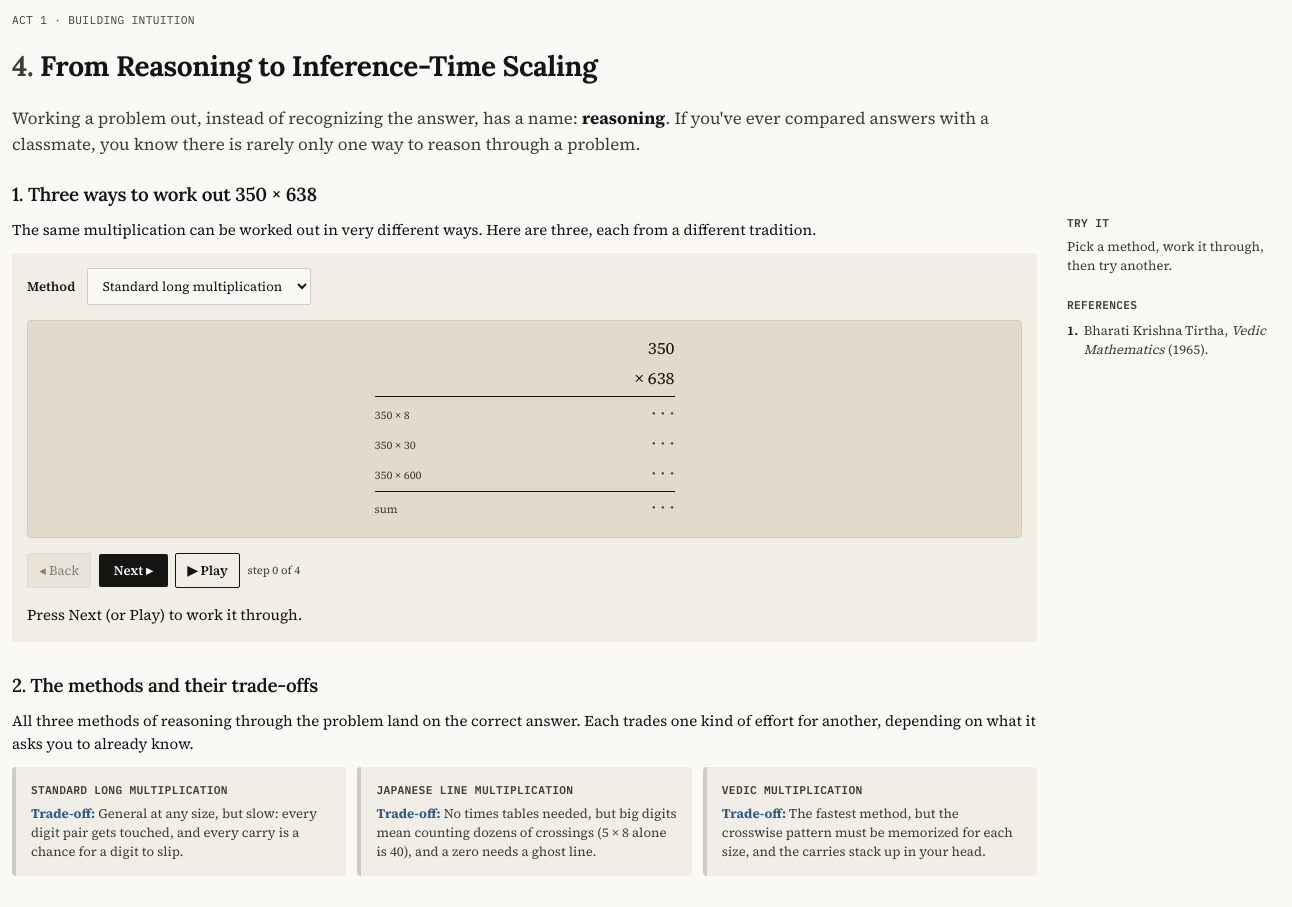
it: Page 4 animated Play (no reduced motion) › Play walks the standard road to the landing, then stops
Step 1. Click the button "▶ Play" → (208, 570), box [175,552,240,588]
Wait 9200 ms
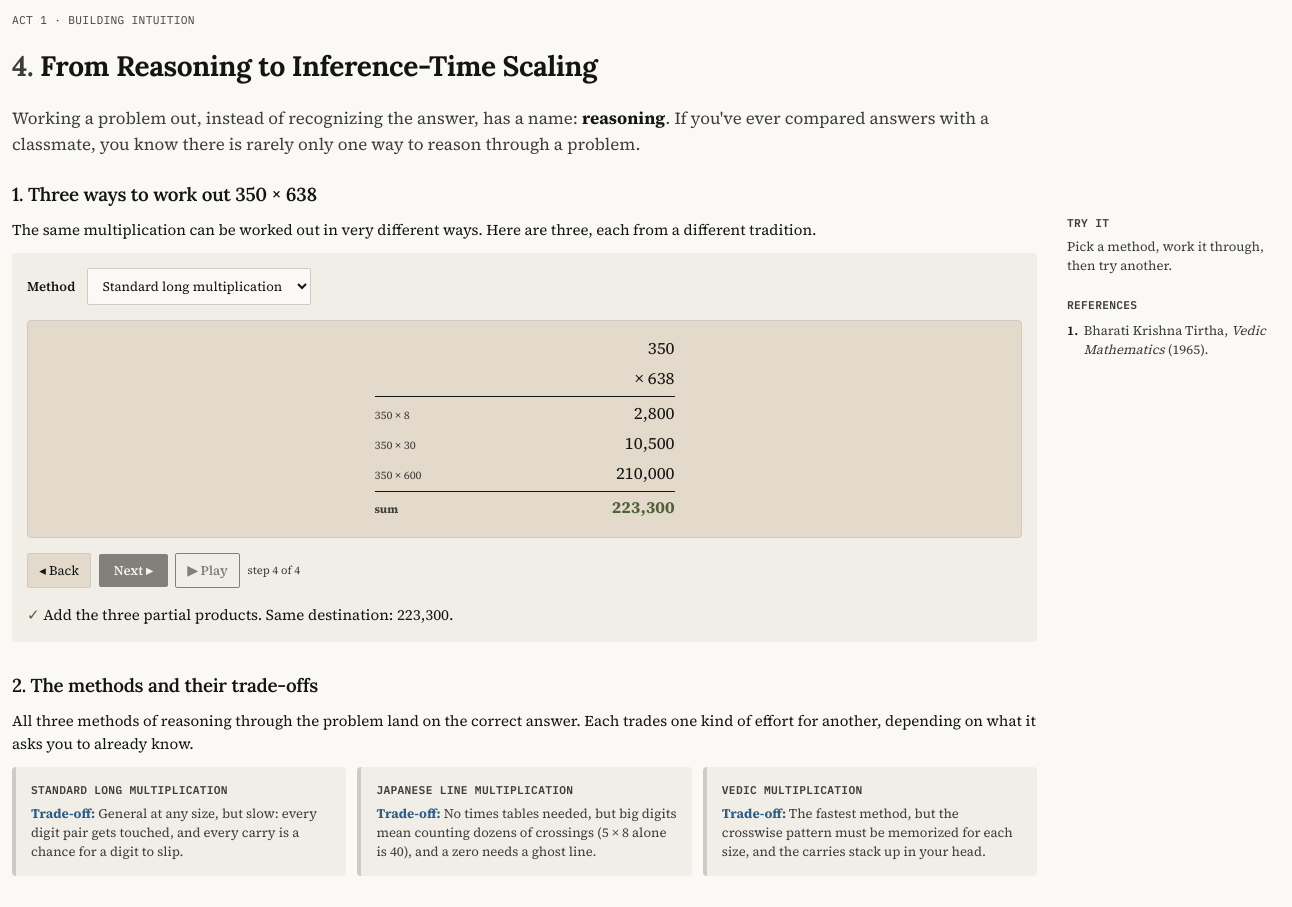
Expected: the text "✓ Add the three partial products. Same destination: 223,300." is shown, [27,604,454,625]
Expected: the button "▶ Play" is disabled, [175,552,240,588]
Expected: the text "step 4 of 4" is shown, [248,563,300,578]
